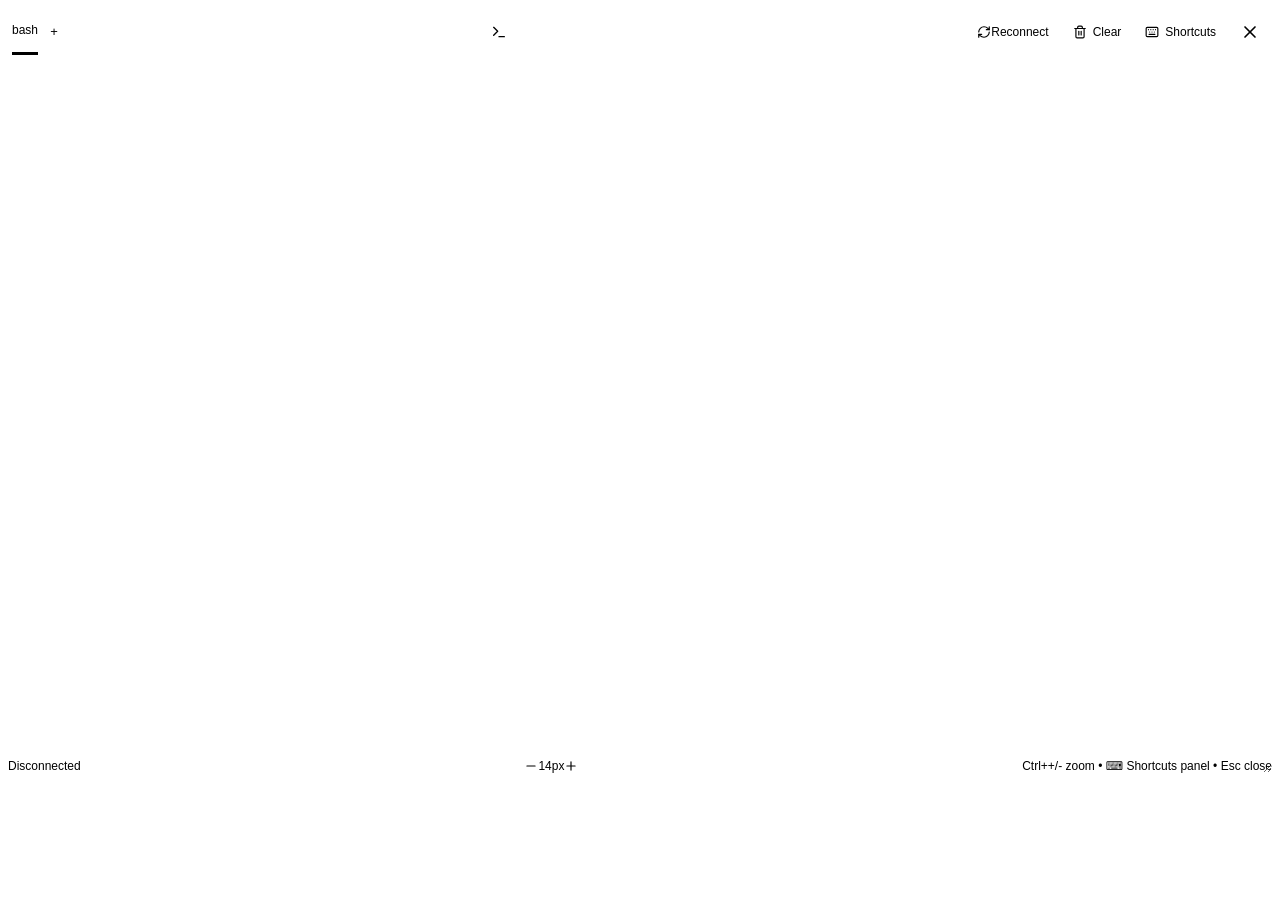
it: TerminalModal › font size controls › increases font size via button, persists, and refits xterm
Expected: the text with test id "terminal-font-size-value" reads "14px", top-left (538, 759), bottom-right (564, 773)
Click the button with test id "terminal-font-size-increase".
click(572, 766)  # box top-left (564, 759), bottom-right (578, 773)
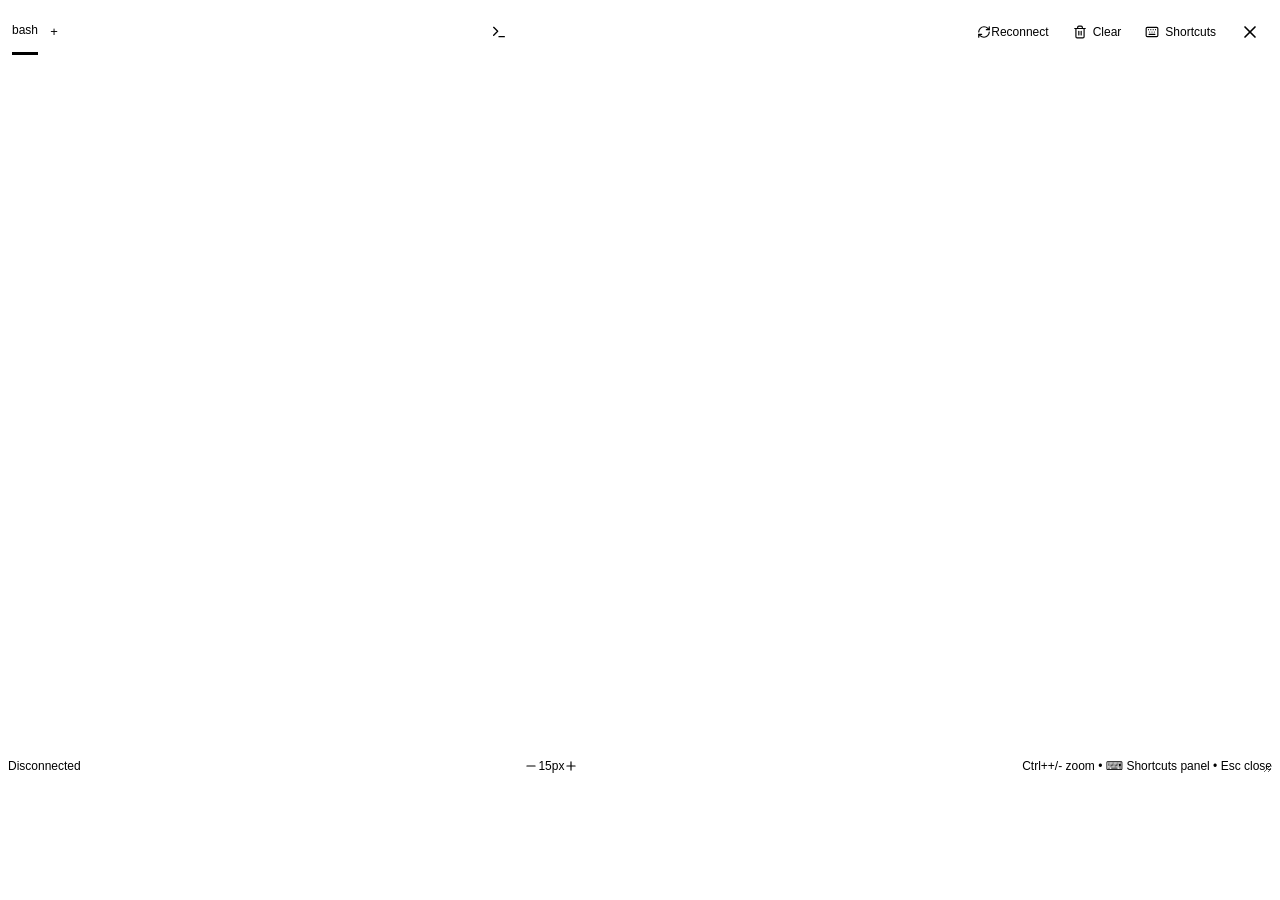
Expected: the text with test id "terminal-font-size-value" reads "15px", top-left (538, 759), bottom-right (564, 773)
